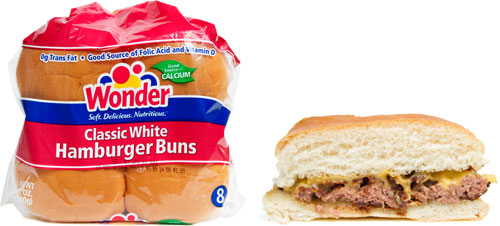hamburger_buns: (3, 21, 252, 225), (270, 106, 498, 226)
